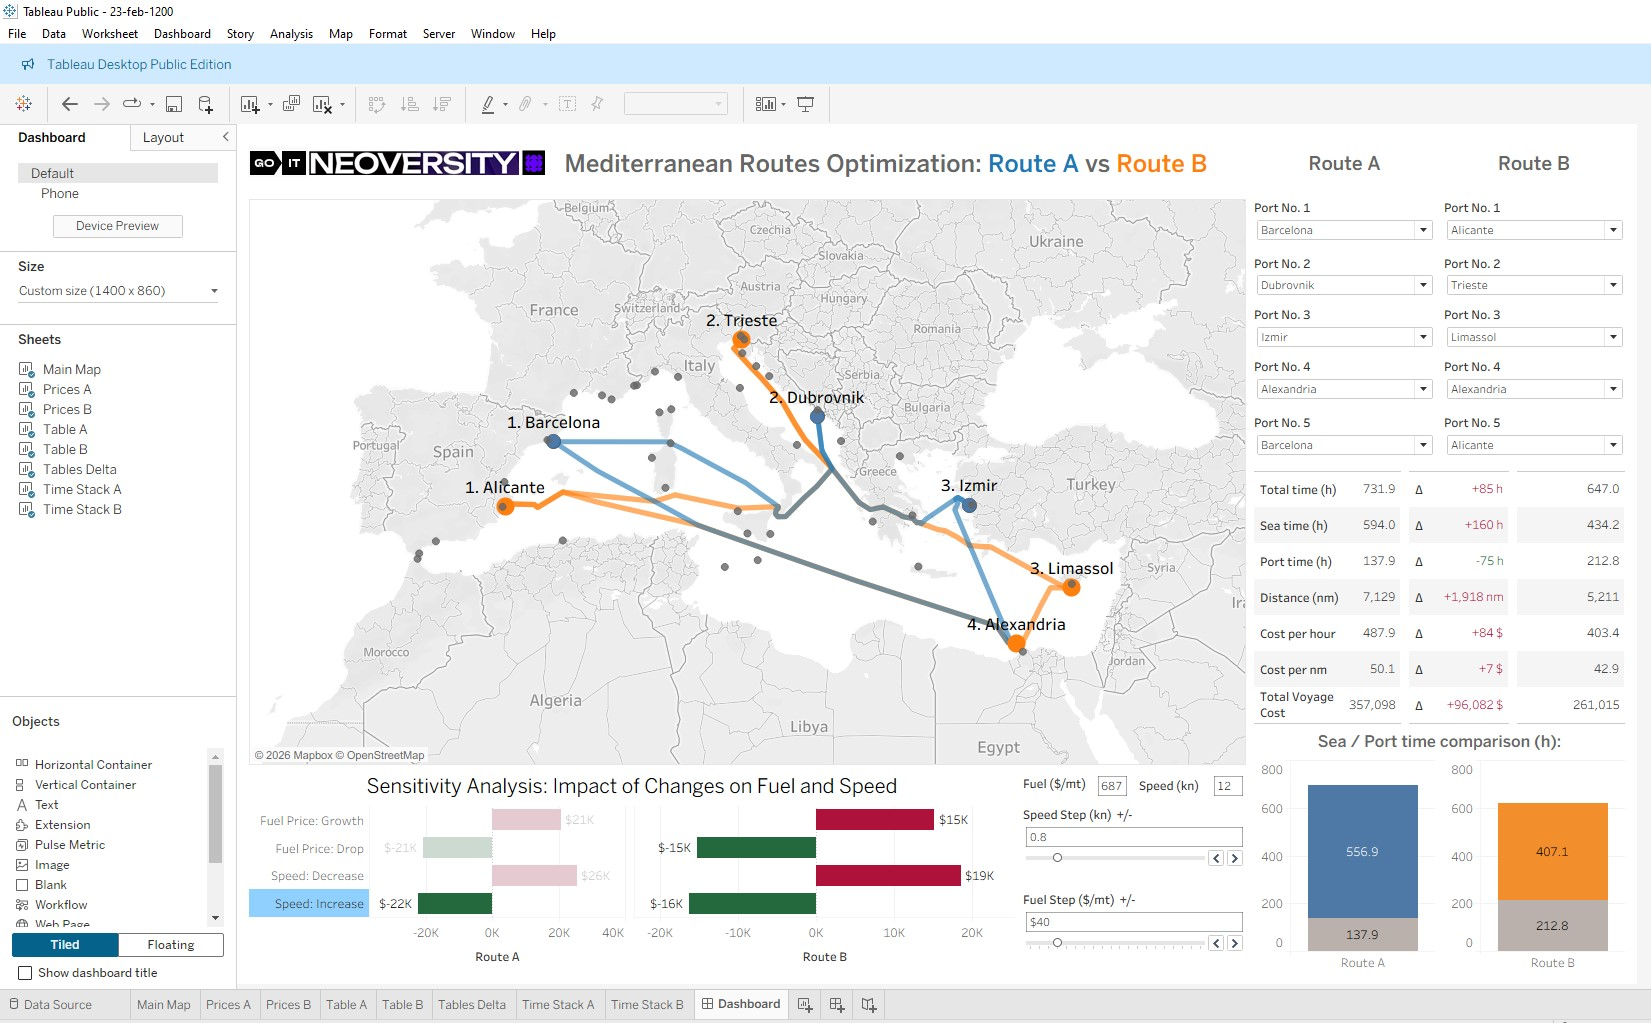

The page's visual inventory and layout, read from the dashboard file:
{"tool":"tableau","page":{"name":"Dashboard","canvas":[1400,860],"ordinal":0},"visuals":[{"type":"text","box":[8,8,1005,63]},{"type":"text","box":[1013,8,189.5,63]},{"type":"text","box":[1202.5,8,189.5,63]},{"type":"image","param":"Image/GoIT logo.jpg","box":[11,23,60,30]},{"type":"image","param":"Image/AIML.jpg","box":[285,26,24,25]},{"type":"image","param":"Image/neoversity small.jpg","box":[72,27,214,24]},{"type":"worksheet","title":"Main Map","mark":"Line","box":[8,71,1005,574]},{"type":"parameter","param":"[Parameters].[A - Port No. 1 (copy)_1315332451291136]","box":[1013,71,189.5,56]},{"type":"parameter","param":"[Parameters].[A - Port No. 5 (copy) (copy)_1315332455530505]","box":[1202.5,71,189.5,56]},{"type":"parameter","param":"[Parameters].[A - Port No. 1 (copy) (copy)_1315332455198725]","box":[1013,127,189.5,51]},{"type":"parameter","param":"[Parameters].[B - Port No. 1 (copy) (copy)_1315332455591946]","box":[1202.5,127,189.5,51]},{"type":"parameter","param":"[Parameters].[A - Port No. 2 (copy)  (copy)_1315332455276550]","box":[1013,178,189.5,52]},{"type":"parameter","param":"[Parameters].[B - Port No. 2 (copy) (copy)_1315332455645195]","box":[1202.5,178,189.5,52]},{"type":"parameter","param":"[Parameters].[A - Port No. 3 (copy)  (copy)_1315332455362567]","box":[1013,230,189.5,56]},{"type":"parameter","param":"[Parameters].[B - Port No. 3 (copy) (copy)_1315332455698444]","box":[1202.5,230,189.5,56]},{"type":"parameter","param":"[Parameters].[A - Port No. 4 (copy) (copy)_1315332455444488]","box":[1013,286,189.5,57]},{"type":"parameter","param":"[Parameters].[B - Port No. 4 (copy) (copy)_1315332455821325]","box":[1202.5,286,189.5,57]},{"type":"worksheet","title":"Table A","mark":"Text","box":[1013,343,155,261]},{"type":"worksheet","title":"Tables Delta","mark":"Text","box":[1168,343,108,261]},{"type":"worksheet","title":"Table B","mark":"Text","box":[1276,343,116,261]},{"type":"text","box":[1013,604,379,28]},{"type":"worksheet","title":"Time Stack A","mark":"Automatic","cols":["Calculation_1315332681289767"],"box":[1013,632,189.5,220]},{"type":"worksheet","title":"Time Stack B","mark":"Automatic","cols":["Calculation_1315332693700655"],"box":[1202.5,632,189.5,220]},{"type":"text","box":[8,645,774.5,33]},{"type":"parameter","param":"[Parameters].[Parameter 13]","box":[782.5,645,115.2,33]},{"type":"parameter","param":"[Parameters].[Parameter 1]","box":[897.7,645,115.3,33]},{"type":"worksheet","title":"Prices A","mark":"Automatic","box":[8,678,384.8,174]},{"type":"worksheet","title":"Prices B","mark":"Automatic","box":[392.8,678,389.7,174]},{"type":"parameter","param":"[Parameters].[Parameter 3]","box":[782.5,678,230.5,85]},{"type":"parameter","param":"[Parameters].[Parameter 2]","box":[782.5,763,230.5,89]}]}

Visuals, with their boxes on the page's 1400x860 design canvas (x1, y1, x2, y2). These are canvas units, not pixel positions in the 1651x1023 screenshot, which may show the page scaled, cropped or inside an application window:
text: region(8, 8, 1013, 71)
text: region(1013, 8, 1202, 71)
text: region(1202, 8, 1392, 71)
image: region(11, 23, 71, 53)
image: region(285, 26, 309, 51)
image: region(72, 27, 286, 51)
"Main Map" worksheet (Line marks): region(8, 71, 1013, 645)
parameter: region(1013, 71, 1202, 127)
parameter: region(1202, 71, 1392, 127)
parameter: region(1013, 127, 1202, 178)
parameter: region(1202, 127, 1392, 178)
parameter: region(1013, 178, 1202, 230)
parameter: region(1202, 178, 1392, 230)
parameter: region(1013, 230, 1202, 286)
parameter: region(1202, 230, 1392, 286)
parameter: region(1013, 286, 1202, 343)
parameter: region(1202, 286, 1392, 343)
"Table A" worksheet (Text marks): region(1013, 343, 1168, 604)
"Tables Delta" worksheet (Text marks): region(1168, 343, 1276, 604)
"Table B" worksheet (Text marks): region(1276, 343, 1392, 604)
text: region(1013, 604, 1392, 632)
"Time Stack A" worksheet: region(1013, 632, 1202, 852)
"Time Stack B" worksheet: region(1202, 632, 1392, 852)
text: region(8, 645, 782, 678)
parameter: region(782, 645, 898, 678)
parameter: region(898, 645, 1013, 678)
"Prices A" worksheet: region(8, 678, 393, 852)
"Prices B" worksheet: region(393, 678, 782, 852)
parameter: region(782, 678, 1013, 763)
parameter: region(782, 763, 1013, 852)
